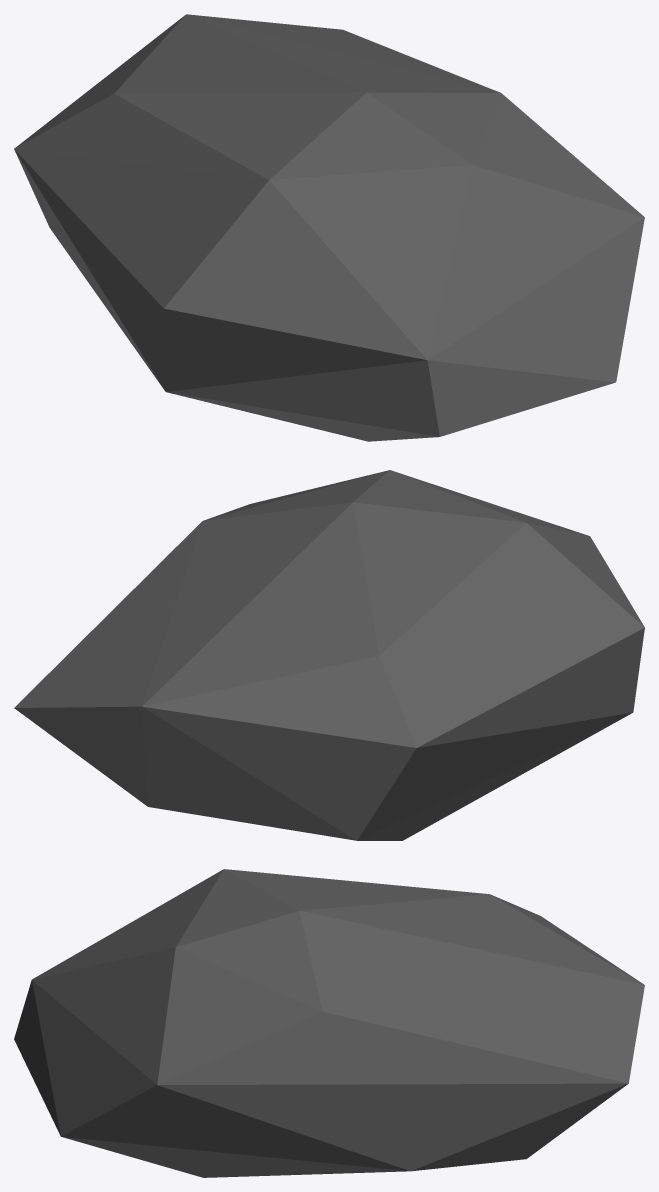
The model's file is Rock_8.fbx.
3 views of the same model, one above another, from view 1: azimuth 30°, elevation 25°; view 2: azimuth 150°, elevation 25°; view 3: azimuth 270°, elevation 25° (orthographic). The views are drawn at different scales.
Parts seen in each view (by area): view 1: M_Rock 8; view 2: M_Rock 8; view 3: M_Rock 8.
Part boxes in pixels (box(x1,y1,x2,y2)): M_Rock 8: box(14, 14, 644, 441); M_Rock 8: box(14, 470, 644, 840); M_Rock 8: box(14, 869, 644, 1177).
Size of the model in its own units: 0.2176 by 0.1385 by 0.3097.
1 material, 1 textured.
